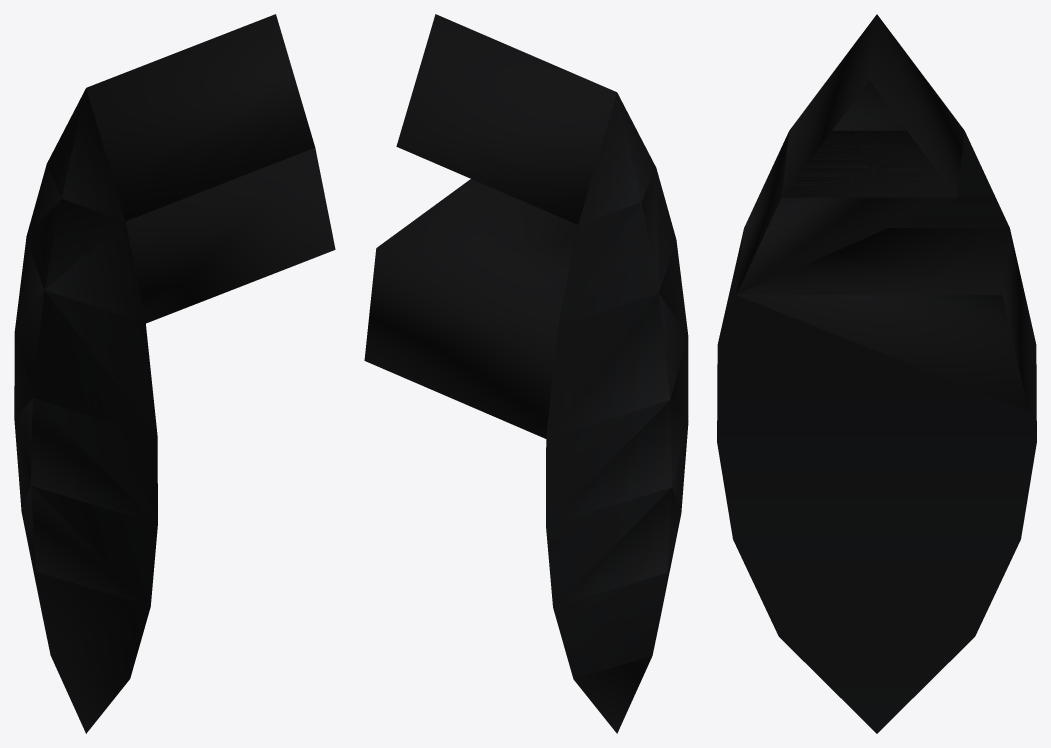
The model's file is gunteralaizq.obj.
3 views of the same model, side by side, from view 1: azimuth 30°, elevation 25°; view 2: azimuth 150°, elevation 25°; view 3: azimuth 270°, elevation 25° (orthographic). The views are drawn at different scales.
Visible parts, largest first — view 1: GunterAlaIzq; view 2: GunterAlaIzq; view 3: GunterAlaIzq.
Boxes of the visible parts, left/top/right/bottom form: GunterAlaIzq: left=14, top=14, right=335, bottom=733; GunterAlaIzq: left=364, top=14, right=688, bottom=733; GunterAlaIzq: left=717, top=14, right=1036, bottom=733.
Bounding box in the file's own units: 0.2432 × 0.6511 × 0.2503.
